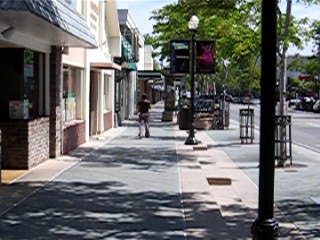person: (139, 90, 154, 137), (138, 90, 153, 137), (140, 90, 155, 137), (139, 89, 154, 136), (139, 91, 154, 138)
target_negative: (150, 199, 294, 207), (315, 18, 317, 201), (297, 170, 313, 190), (251, 88, 268, 106), (18, 144, 23, 179), (294, 231, 297, 235)
